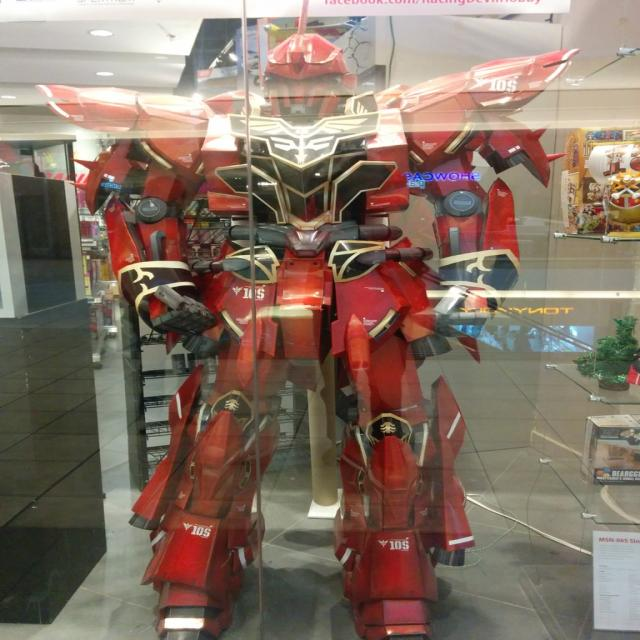Toy: (37, 0, 583, 640)
